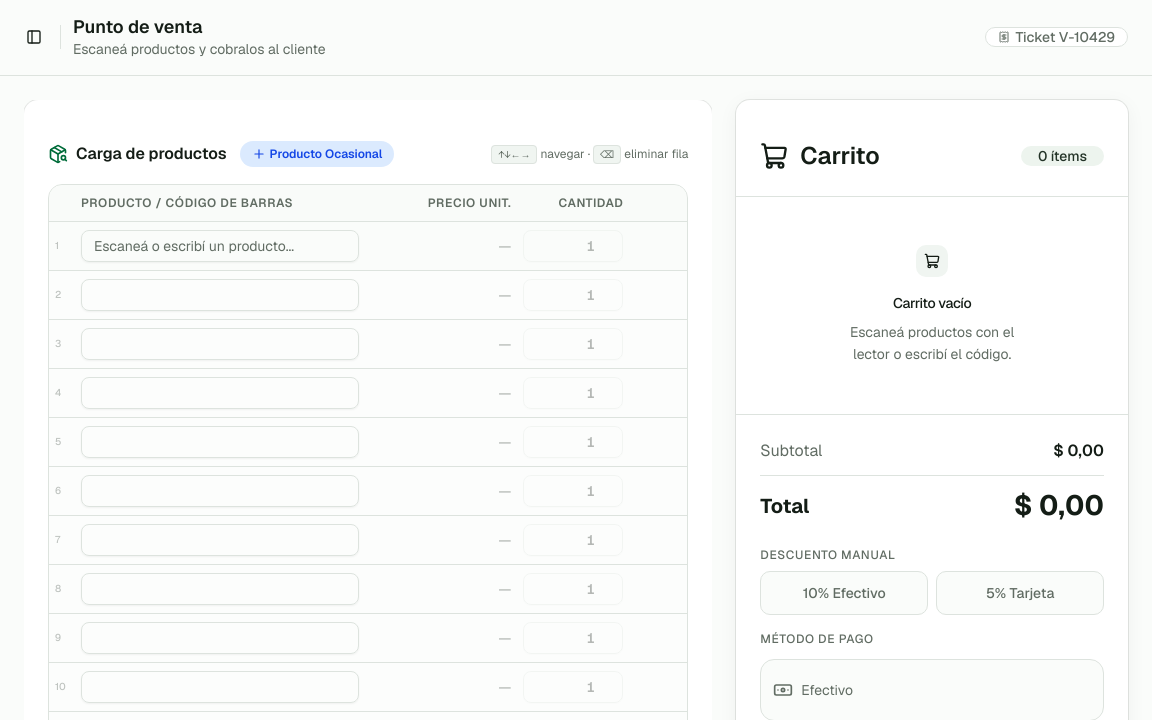
Scenario: PosTerminal keyboard navigation › quantity-prefixed Enter auto-commits row
This screenshot has width=1152, height=720.
Type "*1Test" into the field with placeholder "Escaneá o escribí un producto...". click: [220, 246]
box: [81, 230, 359, 262]
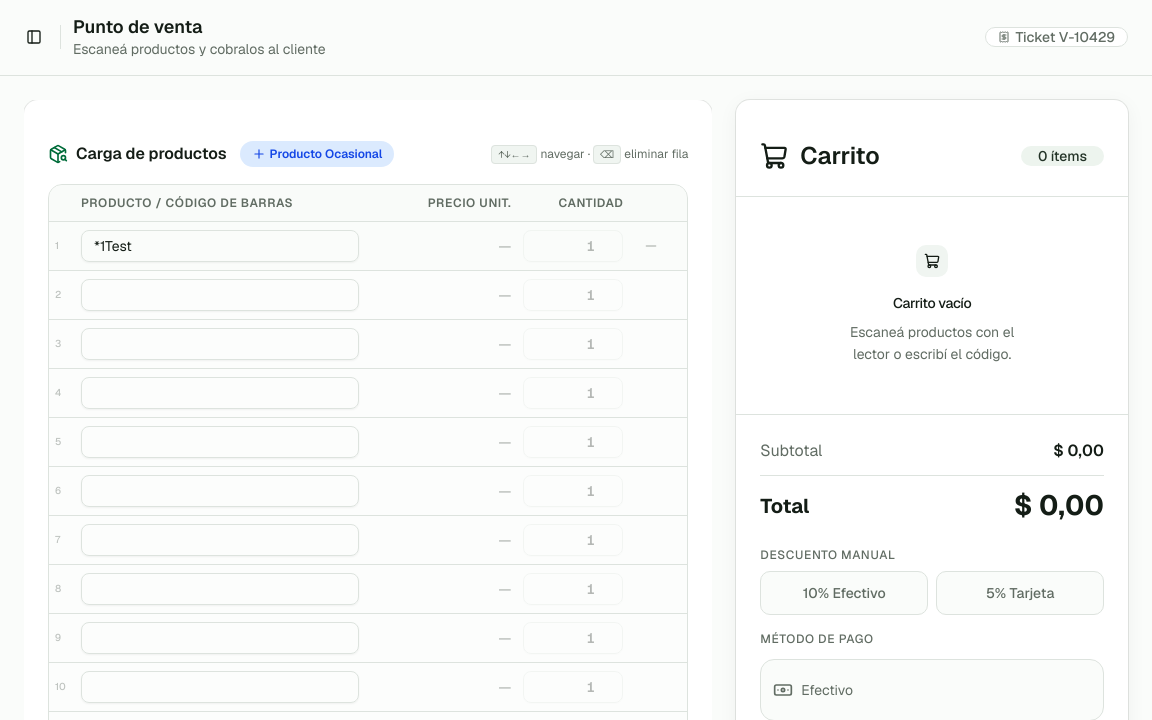
Press Enter in the field named "Producto fila 1", box [81, 230, 359, 262]
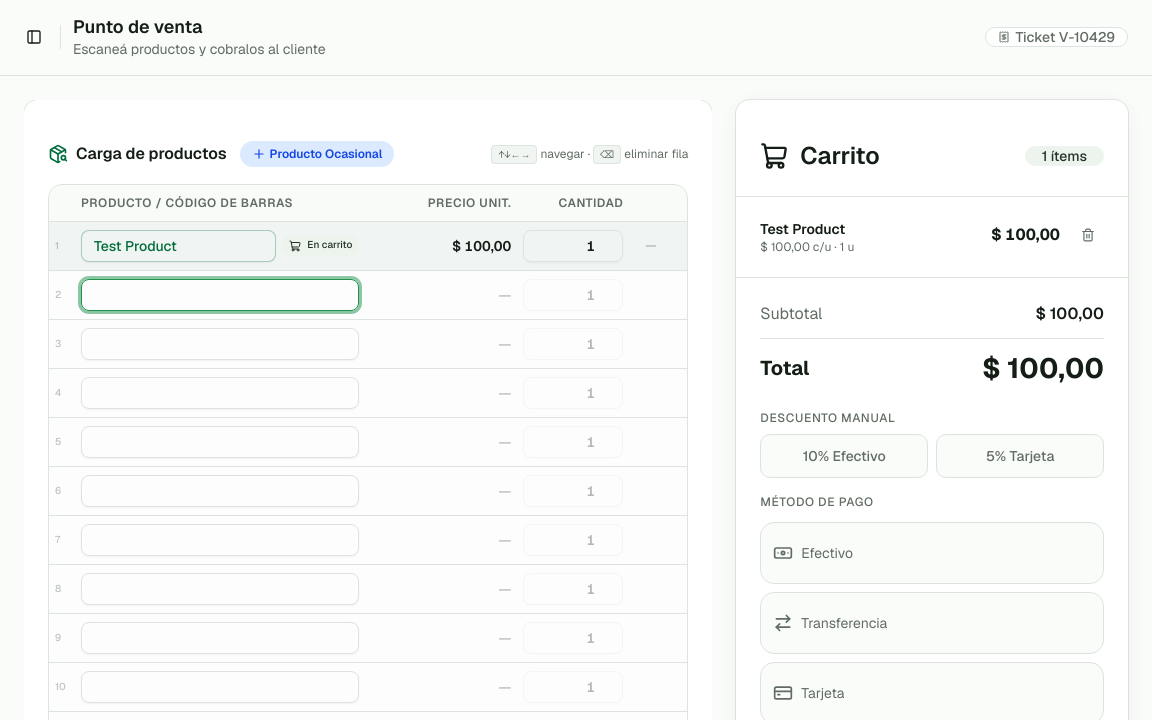
Expected: the heading "Test Product" is shown, [760, 218, 845, 238]
